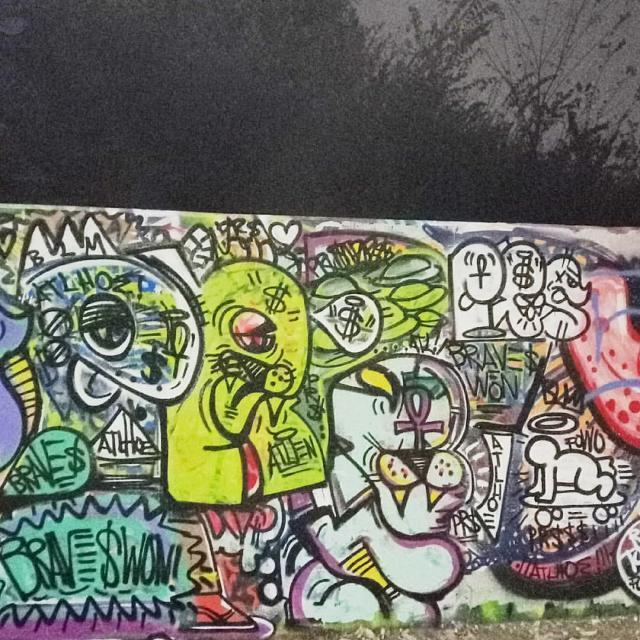-: (11, 216, 202, 492), (160, 251, 330, 504), (296, 358, 470, 596), (448, 237, 594, 350)
